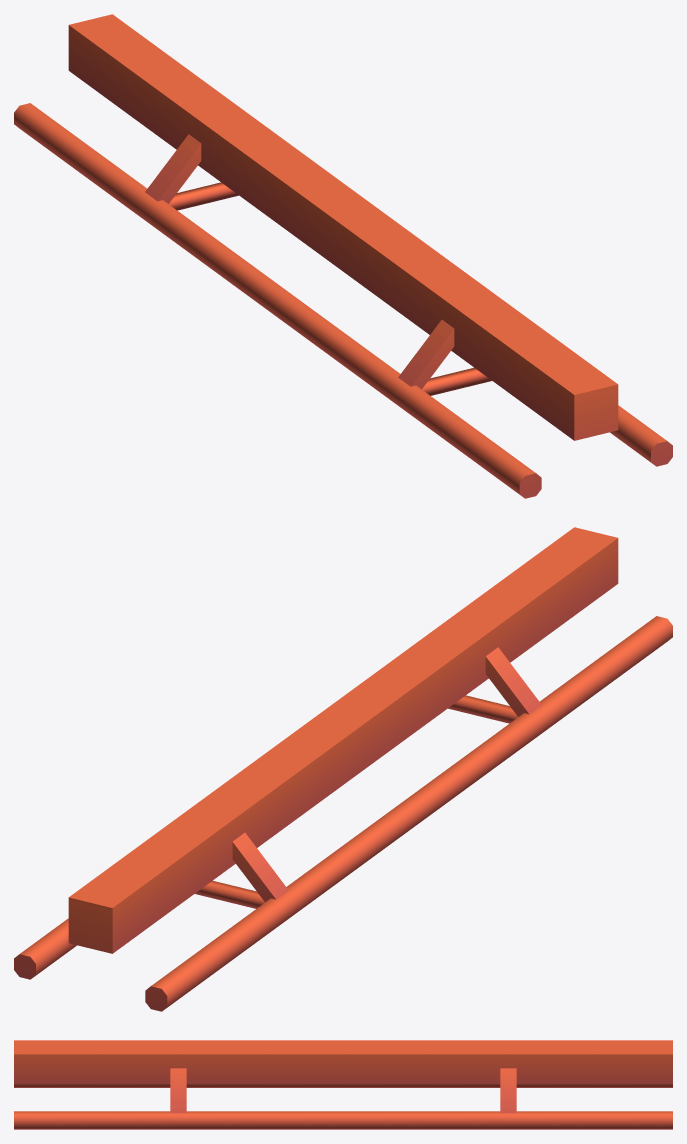
File: coaster-hanging-straight.glb
3 views of the same model, one above another, from view 1: azimuth 30°, elevation 25°; view 2: azimuth 150°, elevation 25°; view 3: azimuth 270°, elevation 25° (orthographic). The views are drawn at different scales.
Visible parts, largest first — view 1: coaster-hanging-straight; view 2: coaster-hanging-straight; view 3: coaster-hanging-straight.
Part boxes in pixels (bbox=[...]): coaster-hanging-straight: bbox=[14, 14, 672, 498]; coaster-hanging-straight: bbox=[14, 527, 672, 1011]; coaster-hanging-straight: bbox=[14, 1040, 672, 1129].
Size of the model in its own units: 0.6997 by 0.3999 by 4.
1 material, 1 textured.
